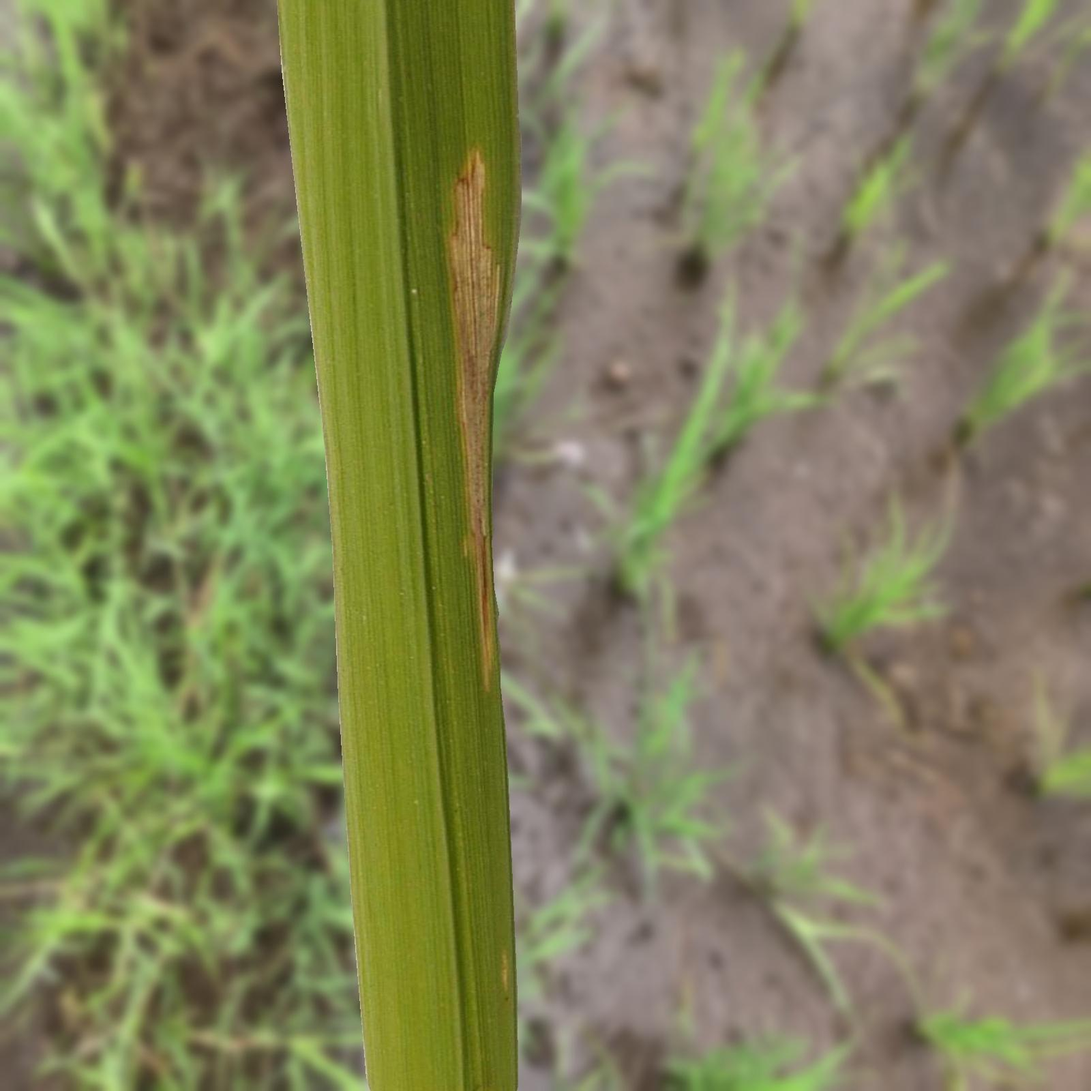BLS: (447, 148, 501, 689)
LEAF: (277, 0, 521, 1090)
